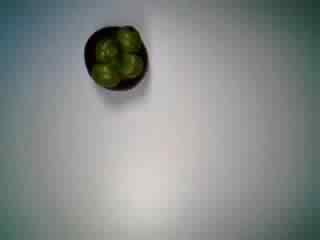mangosteen: (79, 23, 157, 98)
